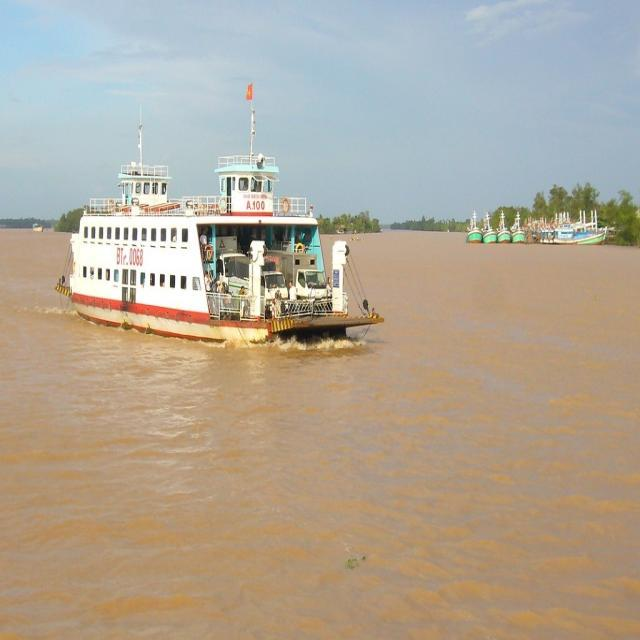boat: (54, 148, 386, 348), (552, 225, 605, 247), (462, 212, 483, 245), (512, 212, 526, 245), (483, 216, 498, 246), (498, 212, 511, 245), (30, 222, 51, 236)
